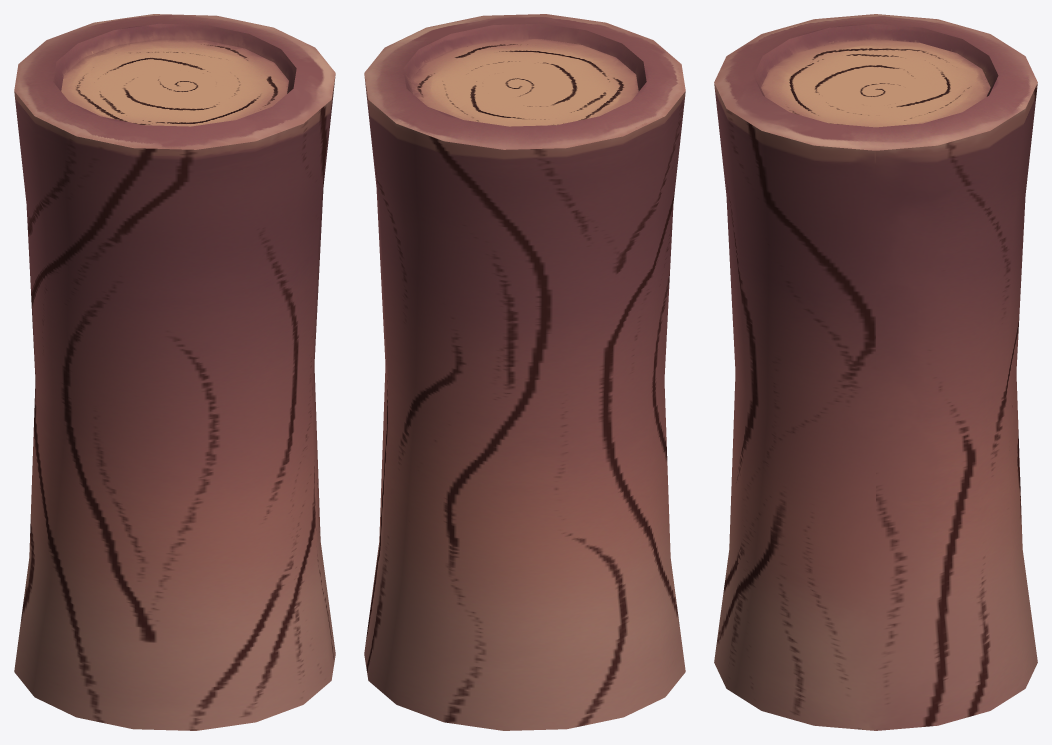
The model's file is obj_Log.fbx.
3 renders of one model, left to right at view 1: azimuth 30°, elevation 25°; view 2: azimuth 150°, elevation 25°; view 3: azimuth 270°, elevation 25°, orthographic.
Visible parts, largest first — view 1: Log; view 2: Log; view 3: Log.
Part boxes in pixels (bbox=[...]): Log: bbox=[14, 14, 335, 730]; Log: bbox=[364, 14, 685, 730]; Log: bbox=[714, 14, 1037, 730].
Bounding box in the file's own units: 20 × 40 × 20.
